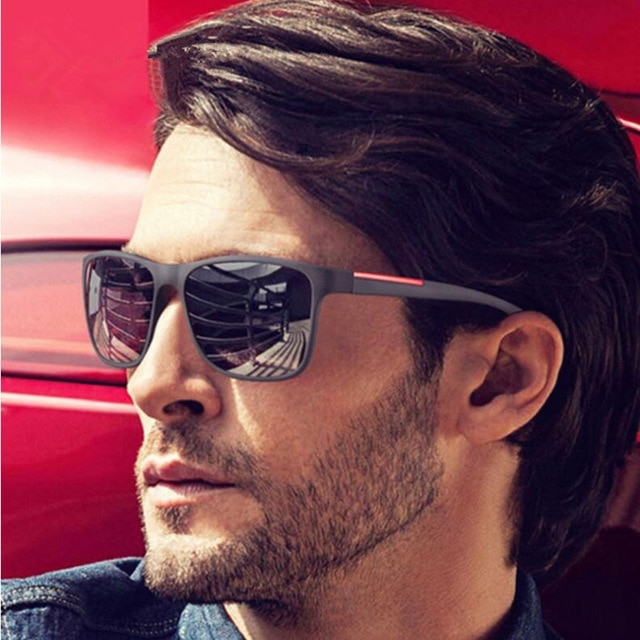sunglasses: (50, 242, 473, 373)
